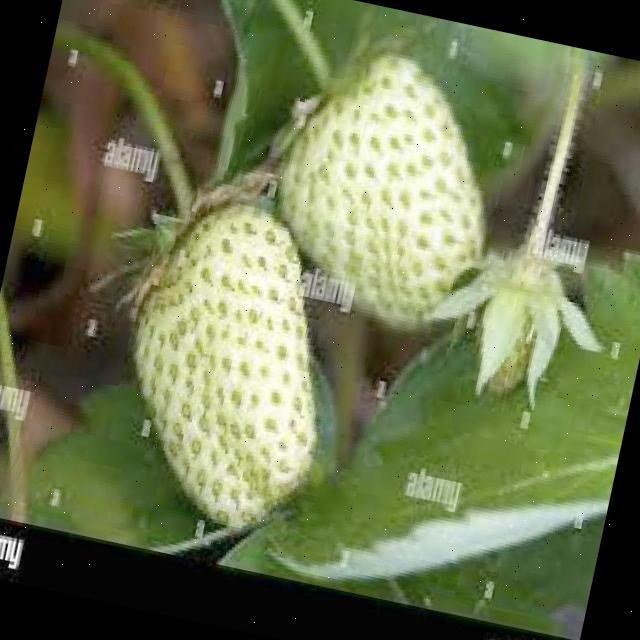strawberry: (98, 189, 362, 543), (253, 35, 519, 345), (465, 258, 560, 408)
